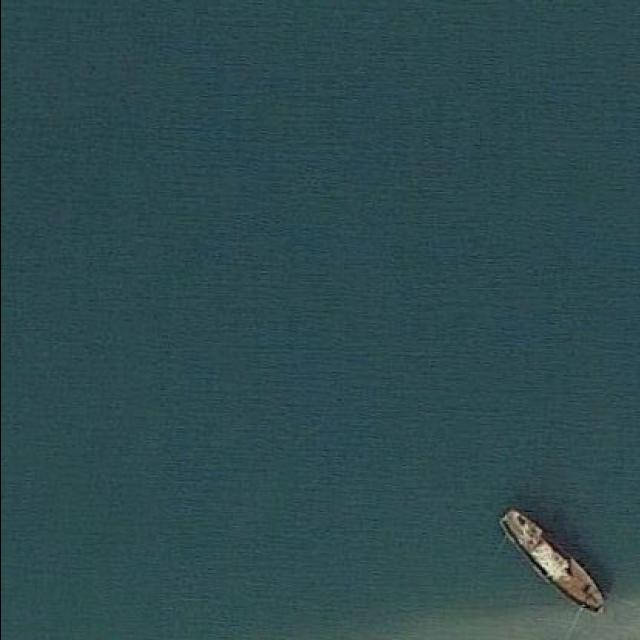ship: (498, 509, 610, 622)
